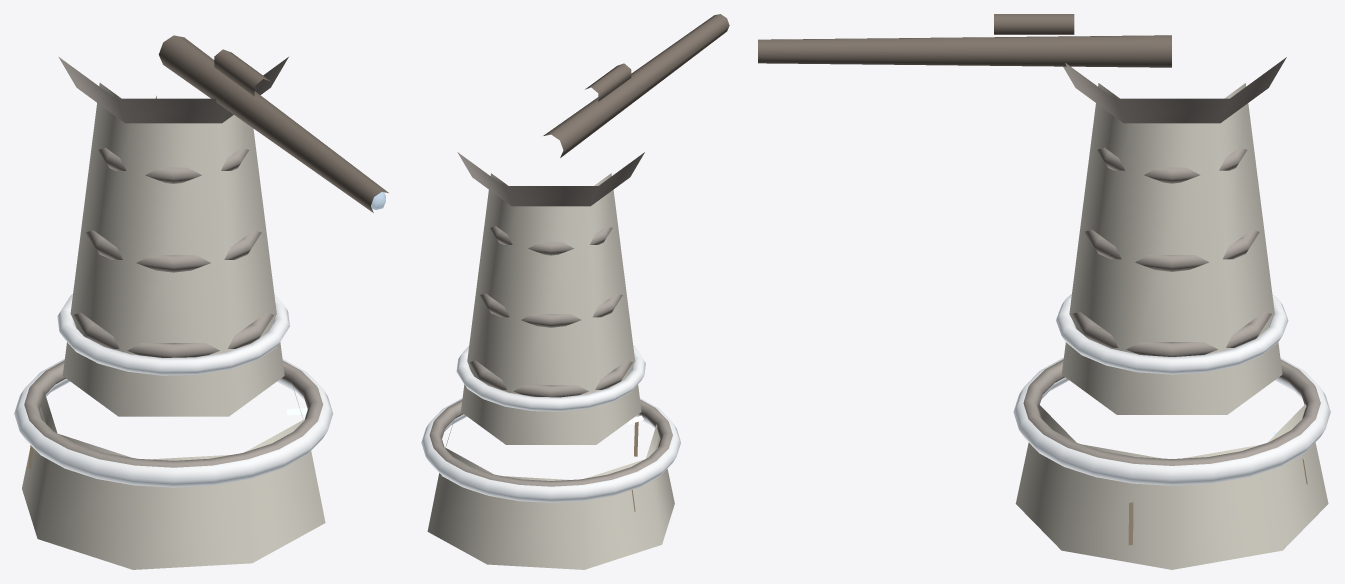
Rendered from tower_sniper_3.glb.
3 renders of one model, left to right at view 1: azimuth 30°, elevation 25°; view 2: azimuth 150°, elevation 25°; view 3: azimuth 270°, elevation 25°, orthographic. The views are drawn at different scales.
Visible parts, largest first — view 1: turret, base; view 2: turret, base; view 3: turret, base.
Boxes of the visible parts, left/top/right/bottom form: turret: left=58, top=35, right=388, bottom=416; base: left=14, top=96, right=333, bottom=569; turret: left=457, top=14, right=729, bottom=444; base: left=421, top=345, right=680, bottom=569; turret: left=758, top=14, right=1286, bottom=414; base: left=1013, top=294, right=1330, bottom=569.
Size of the model in its own units: 2.76 by 4.7 by 4.98.
